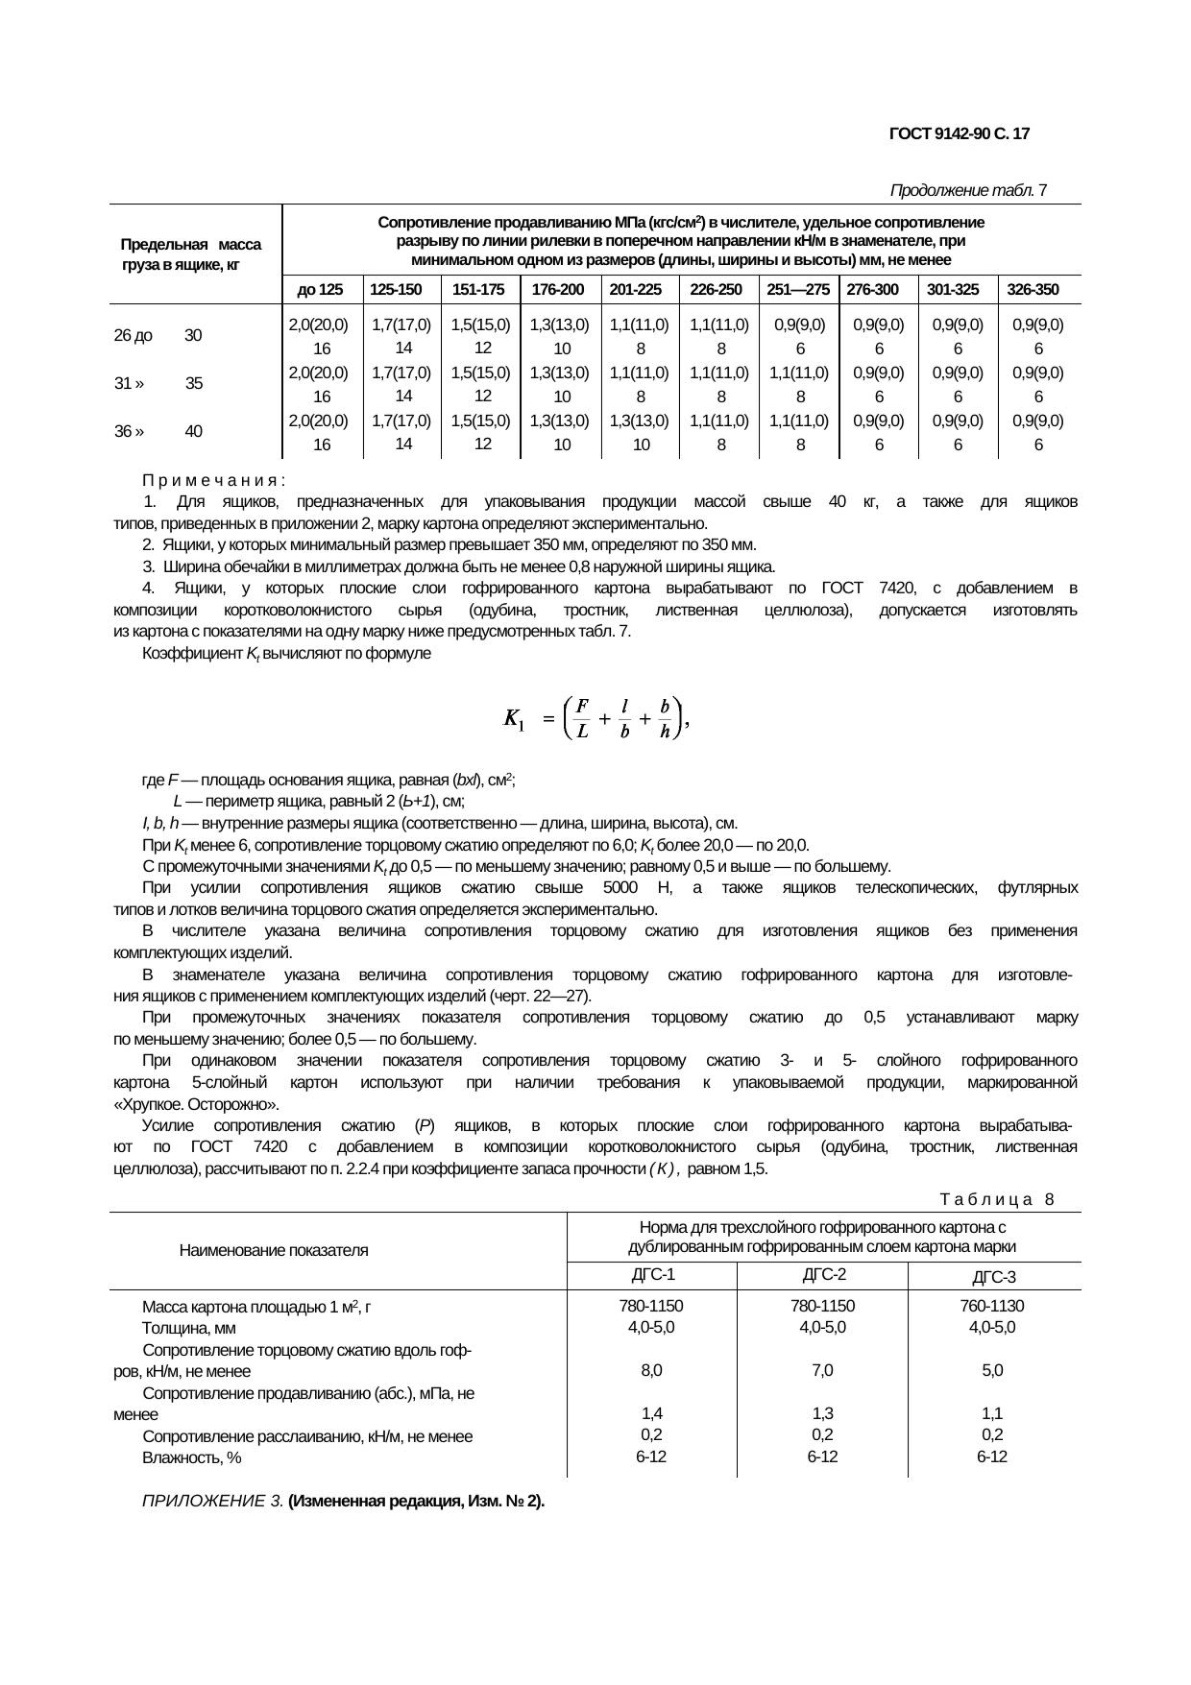partial_lined_merged_cells: (110, 1211, 1085, 1481), (110, 202, 1081, 460)
